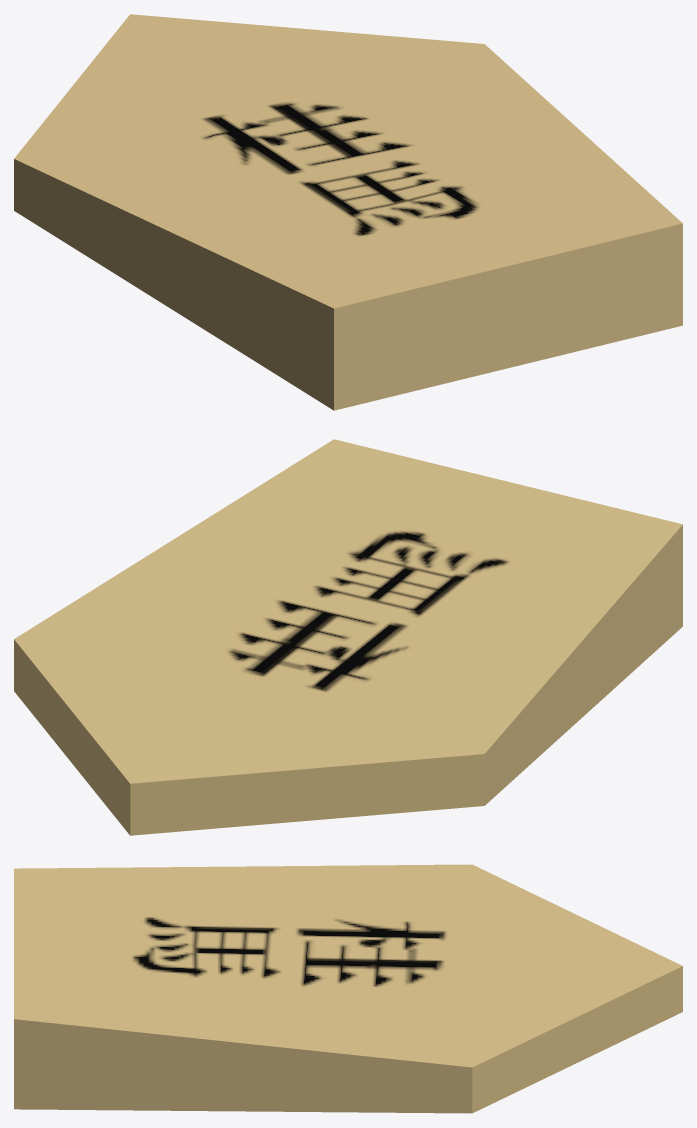
Rendered from piece_keima.gltf.
3 renders of one model, top to bottom at view 1: azimuth 30°, elevation 25°; view 2: azimuth 150°, elevation 25°; view 3: azimuth 270°, elevation 25°, orthographic. The views are drawn at different scales.
Visible parts, largest first — view 1: Cube; view 2: Cube; view 3: Cube.
Boxes of the visible parts, x1,y1,x2,y2 form: Cube: (14,14,682,410); Cube: (14,439,682,835); Cube: (14,864,682,1113).
Bounding box in the file's own units: 1.31 × 0.2712 × 1.82.
Materials: 1 (1 with a texture image).
